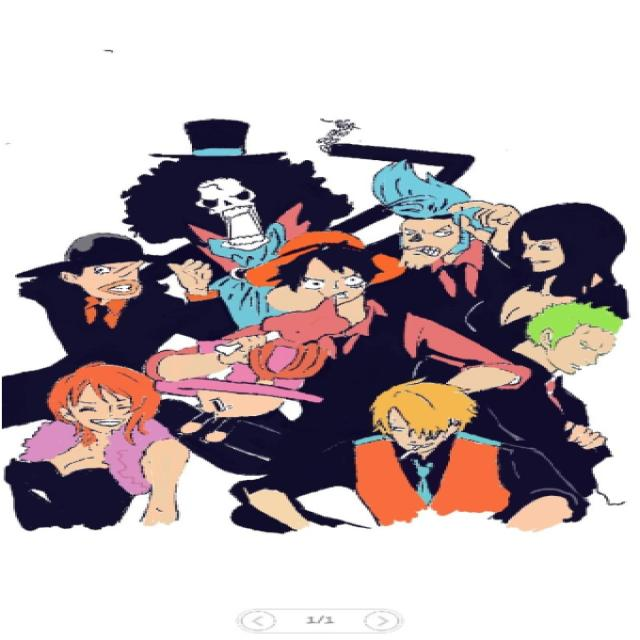Blook: (126, 122, 327, 251)
Franky: (362, 161, 506, 267)
Nami: (41, 363, 170, 443)
NicoRobin: (502, 201, 640, 294)
Sangdi: (351, 379, 489, 467)
Usopp: (46, 224, 177, 311)
Zoro: (504, 307, 628, 374)
